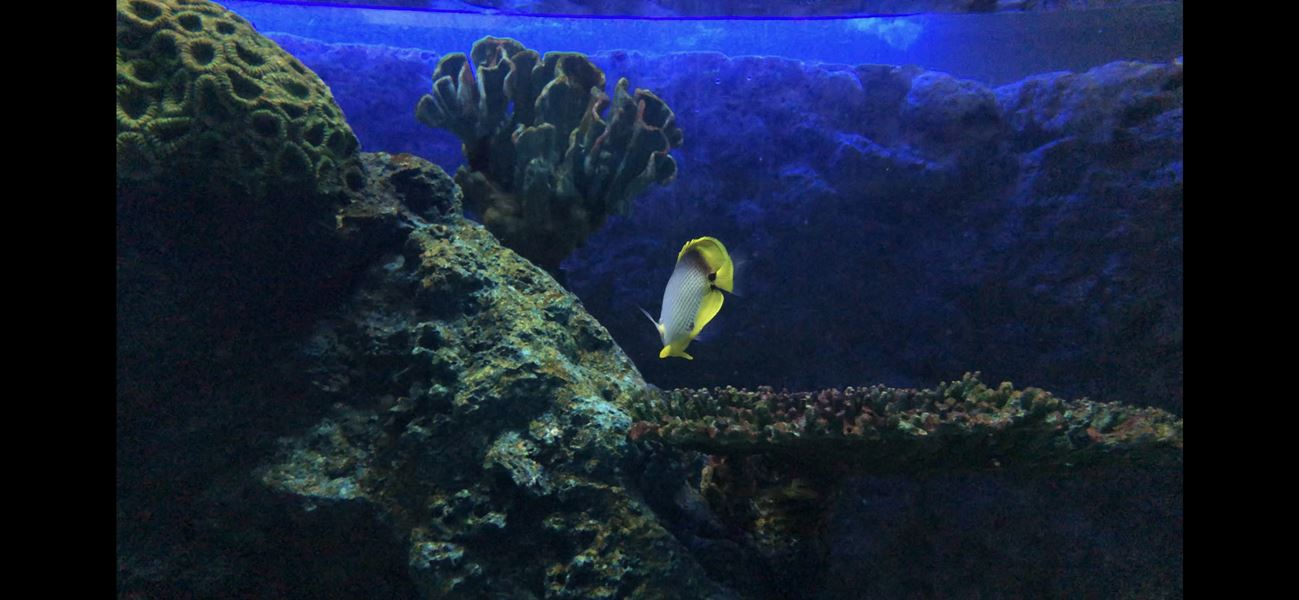Black-backed butterflyfish: (633, 227, 764, 373)
